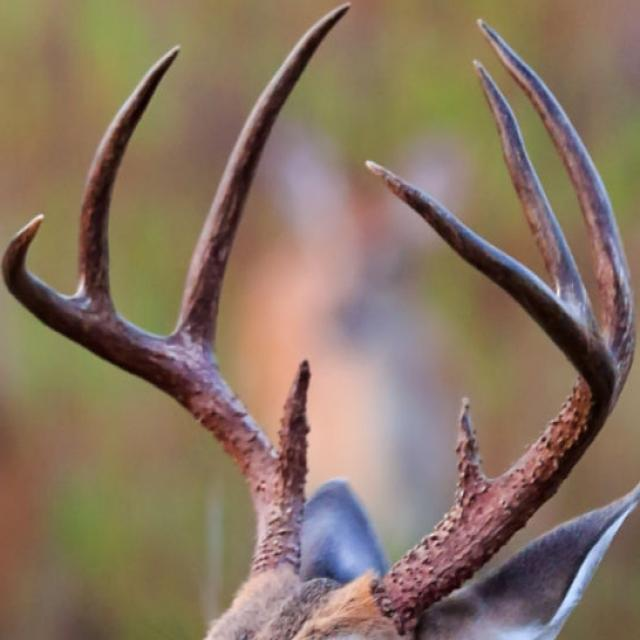L-F: (364, 159, 617, 620)
L-G1: (453, 395, 491, 506)
L-G2: (476, 17, 637, 401)
L-G3: (473, 58, 600, 335)
R-F: (1, 213, 306, 580)
R-G1: (276, 357, 313, 479)
R-G2: (173, 3, 353, 353)
R-G3: (76, 45, 184, 308)
